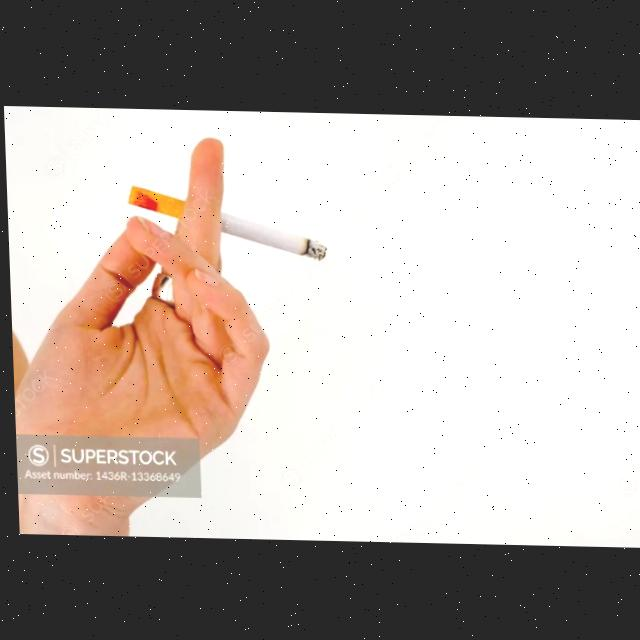cigarette: (126, 185, 327, 261)
